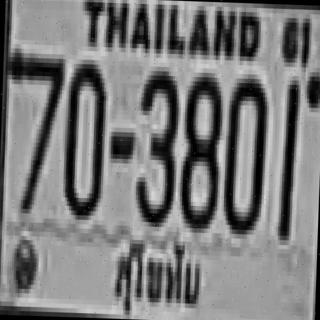N00: (220, 74, 266, 230), (62, 54, 105, 216)
N01: (276, 78, 296, 238), (278, 75, 297, 236)
N03: (132, 66, 178, 223)
N07: (18, 48, 64, 210)
N08: (178, 68, 220, 228)
P65: (107, 230, 209, 320)
